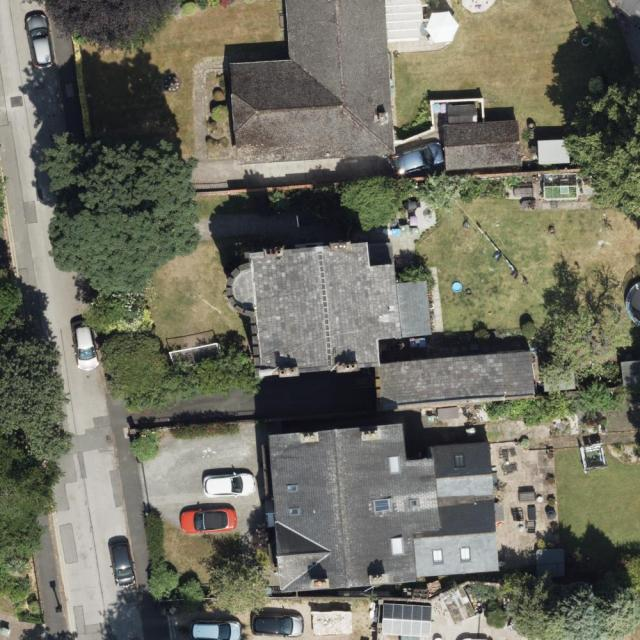roof: (225, 242, 539, 414), (267, 421, 504, 593), (229, 0, 394, 168), (440, 118, 523, 168)
skylight: (373, 496, 394, 515), (453, 449, 467, 471), (458, 545, 473, 564), (430, 547, 444, 566), (284, 482, 300, 495), (288, 506, 302, 516), (409, 498, 421, 509)
